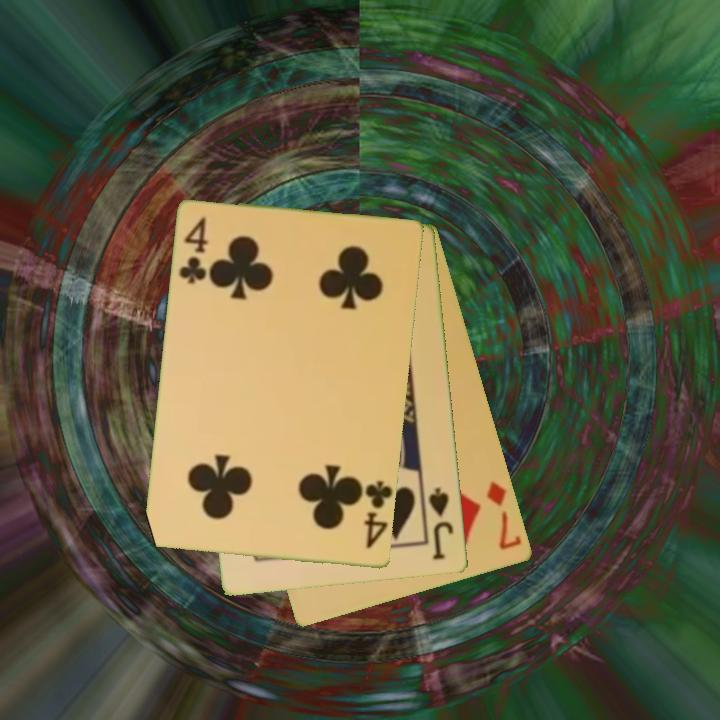4c: (176, 214, 211, 287), (361, 477, 394, 553)
7d: (483, 478, 525, 553)
Js: (425, 484, 457, 563)
